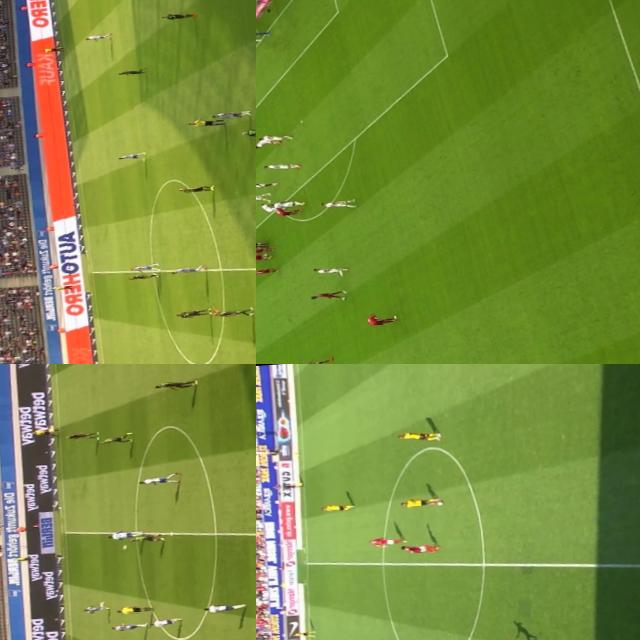ball: (432, 498, 446, 506), (119, 541, 130, 550), (260, 250, 270, 256)
player: (393, 428, 442, 443), (361, 310, 398, 328), (209, 106, 254, 120), (397, 494, 440, 508), (135, 472, 180, 485), (212, 304, 256, 317), (367, 533, 410, 546), (306, 288, 348, 301), (158, 9, 198, 22), (316, 501, 356, 514), (174, 306, 212, 318), (125, 270, 162, 282), (307, 264, 347, 275), (202, 602, 246, 612), (151, 379, 194, 389), (113, 150, 148, 162), (113, 65, 148, 77), (128, 260, 163, 272), (103, 528, 141, 539), (62, 430, 100, 441), (399, 542, 437, 553), (176, 183, 216, 193), (169, 264, 207, 274), (268, 198, 306, 208), (108, 620, 146, 630), (260, 162, 302, 171), (315, 198, 356, 207), (96, 433, 132, 443), (126, 532, 161, 542), (84, 30, 115, 41), (292, 356, 334, 364), (81, 600, 108, 612), (256, 199, 282, 211), (256, 136, 281, 148), (149, 616, 179, 626), (274, 206, 302, 216), (260, 132, 292, 140), (256, 178, 276, 189), (288, 629, 314, 637), (241, 124, 256, 137), (256, 192, 272, 203), (256, 266, 277, 274), (256, 245, 274, 253), (256, 28, 268, 39), (256, 253, 270, 261)
